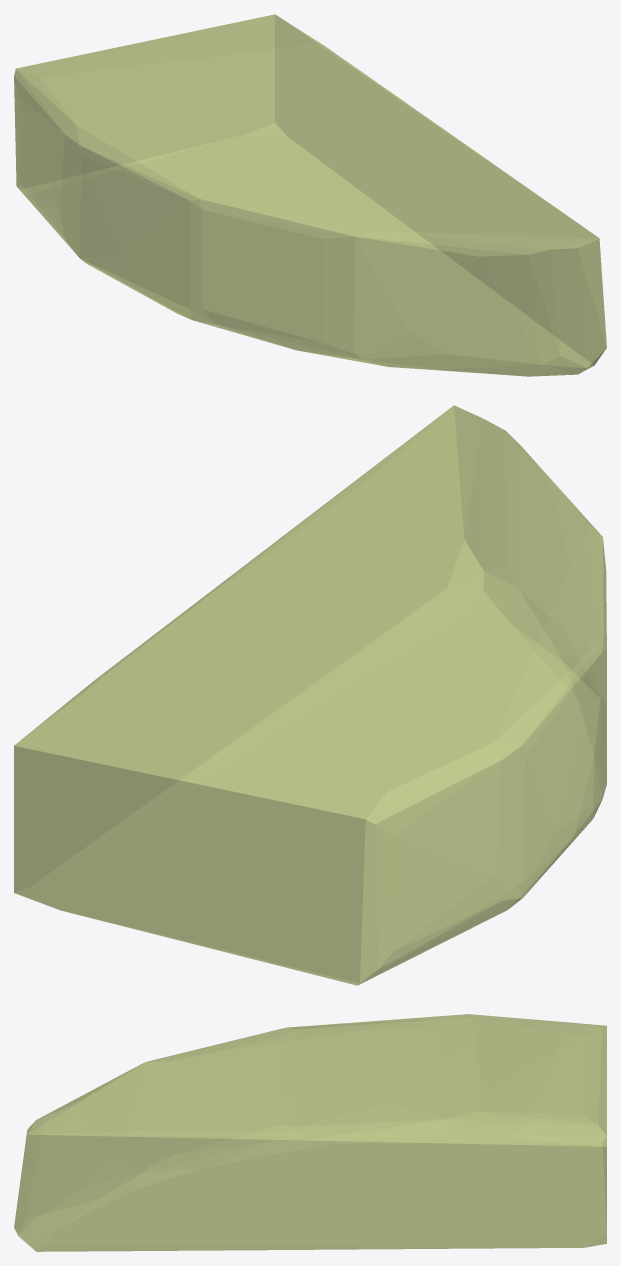
The picture shows the model from 3 angles, top to bottom: view 1: azimuth 30°, elevation 25°; view 2: azimuth 150°, elevation 25°; view 3: azimuth 270°, elevation 25°; orthographic projection. The views are drawn at different scales.
Parts seen in each view (by area): view 1: Shape_IndexedFaceSet.002_Shape_IndexedFaceSet.15208; view 2: Shape_IndexedFaceSet.002_Shape_IndexedFaceSet.15208; view 3: Shape_IndexedFaceSet.002_Shape_IndexedFaceSet.15208.
Part boxes in pixels (x1,y1,x2,y2): Shape_IndexedFaceSet.002_Shape_IndexedFaceSet.15208: (14, 14, 606, 376); Shape_IndexedFaceSet.002_Shape_IndexedFaceSet.15208: (14, 405, 606, 985); Shape_IndexedFaceSet.002_Shape_IndexedFaceSet.15208: (14, 1014, 606, 1251).
Bounding box in the file's own units: 0.025 × 0.0114 × 0.0503.
